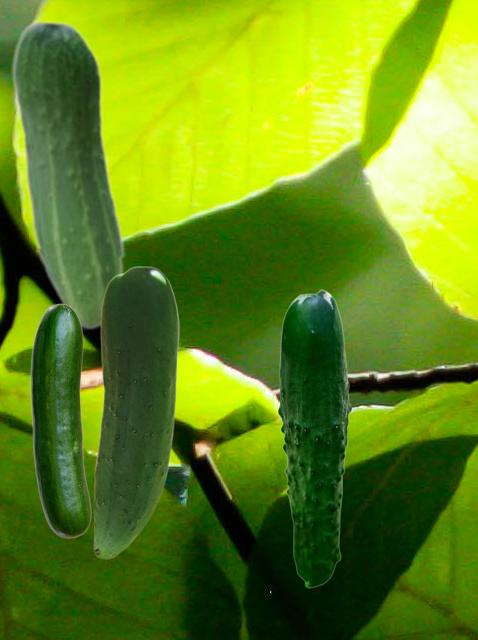cucumber: (11, 18, 125, 329), (93, 266, 178, 558), (277, 289, 351, 587), (30, 303, 90, 537)
